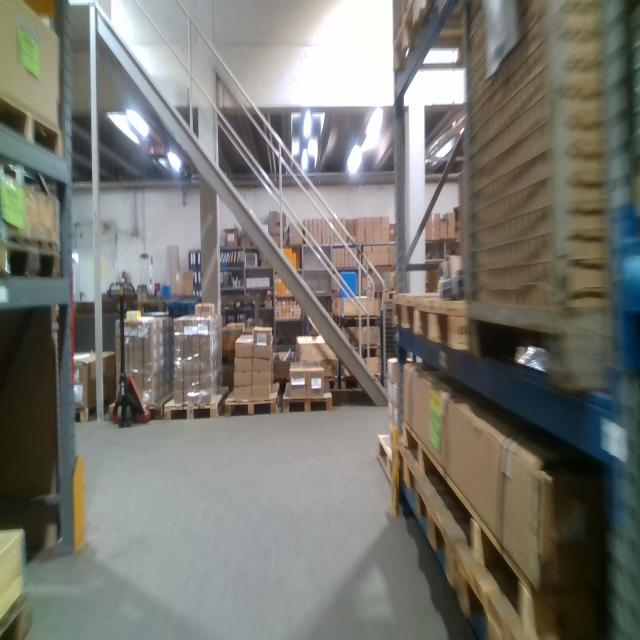pallet: (444, 470, 547, 639), (454, 542, 529, 637), (411, 471, 463, 580), (1, 89, 67, 166), (2, 230, 62, 298), (417, 296, 478, 351), (401, 420, 444, 490), (164, 383, 228, 423), (226, 384, 279, 419), (283, 379, 335, 413), (377, 434, 402, 491), (1, 591, 30, 638), (386, 290, 416, 335), (76, 407, 97, 426)
pallet_truck: (103, 276, 156, 432)
stillage: (459, 1, 610, 407), (379, 302, 404, 391)
